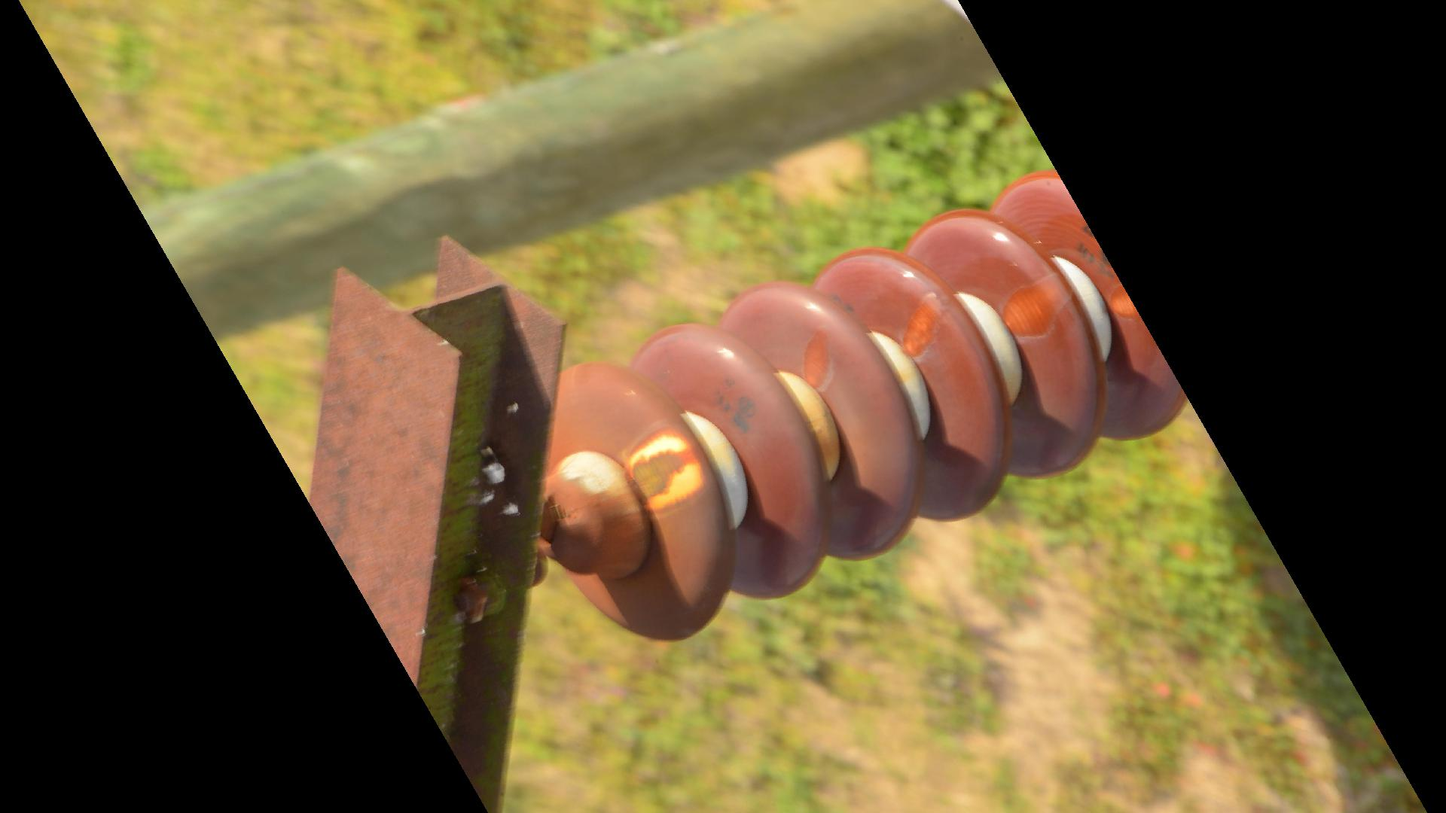insulator: (543, 168, 1191, 647)
insulator_flashover: (622, 425, 708, 518), (999, 269, 1075, 342), (898, 288, 950, 358), (798, 327, 836, 391)
